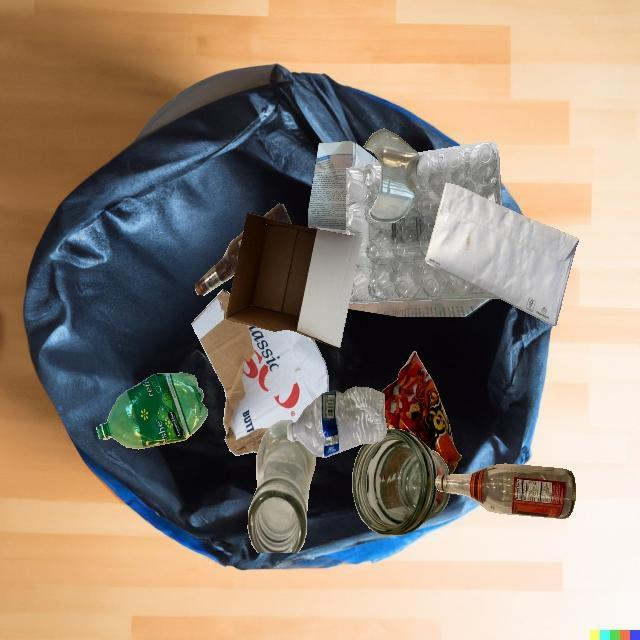cardboard: (191, 289, 329, 456), (225, 212, 362, 348)
glass: (352, 428, 450, 536), (247, 420, 315, 553), (435, 464, 575, 519), (363, 128, 419, 222), (195, 232, 244, 295), (263, 203, 292, 224)
paper: (425, 182, 579, 325), (308, 141, 379, 234), (348, 298, 492, 317)
plastic: (346, 142, 502, 304), (96, 372, 208, 449), (287, 387, 387, 458)
trash: (380, 351, 462, 475)
